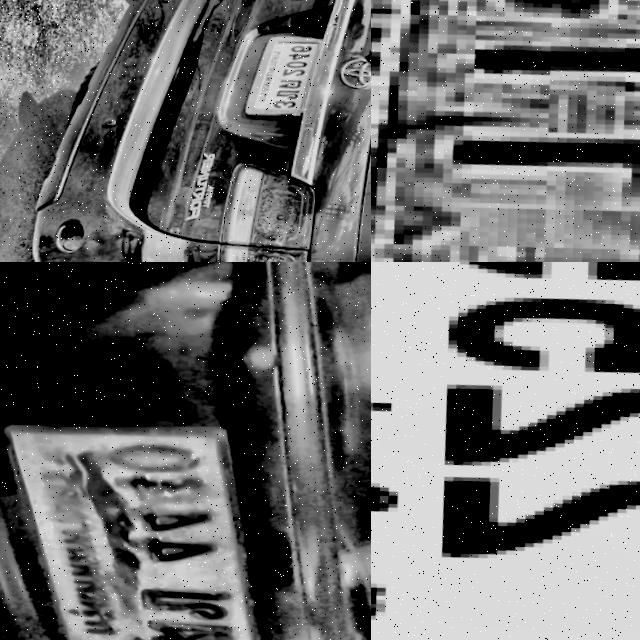license-plate: (371, 262, 640, 640), (371, 0, 640, 262), (3, 429, 240, 640), (237, 34, 326, 130)
